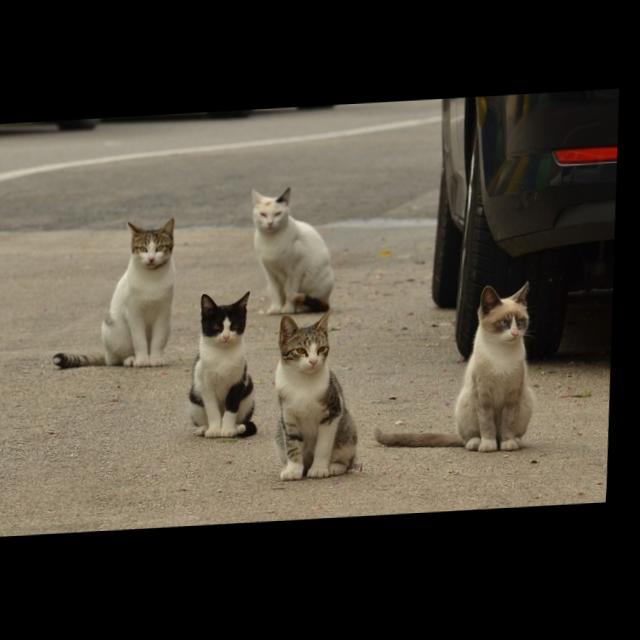animals: (374, 280, 548, 460), (62, 218, 180, 368), (274, 309, 367, 485), (252, 189, 340, 317), (193, 295, 262, 440)
